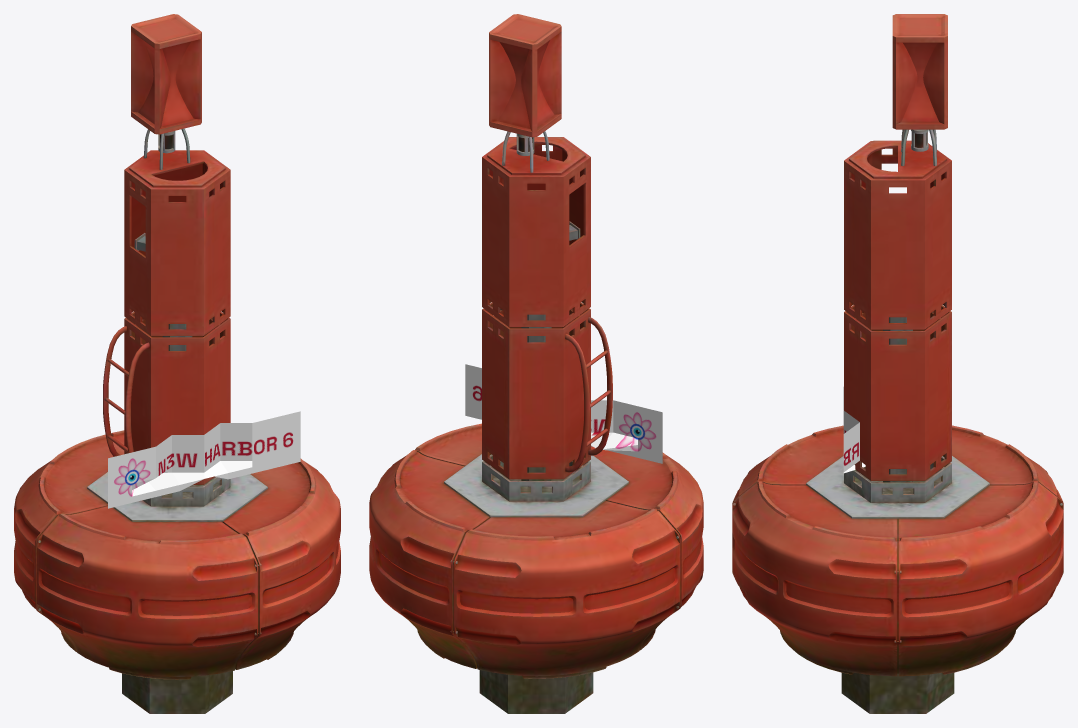
File: nyb_ontown_marker.glb
The picture shows the model from 3 angles, left to right: view 1: azimuth 30°, elevation 25°; view 2: azimuth 150°, elevation 25°; view 3: azimuth 270°, elevation 25°; orthographic projection. The views are drawn at different scales.
Visible parts, largest first — view 1: lateral_sea_marker, stk_lbl_870b43a96d.png; view 2: lateral_sea_marker, stk_lbl_870b43a96d.png; view 3: lateral_sea_marker, stk_lbl_870b43a96d.png.
Boxes of the visible parts, box(x1,y1,x2,y2) form: lateral_sea_marker: box(14, 14, 340, 713); stk_lbl_870b43a96d.png: box(108, 411, 300, 508); lateral_sea_marker: box(369, 14, 703, 713); stk_lbl_870b43a96d.png: box(465, 364, 662, 463); lateral_sea_marker: box(732, 14, 1063, 713); stk_lbl_870b43a96d.png: box(843, 387, 865, 473).
Size of the model in its own units: 3 by 6.84 by 3.
Materials: 2 (2 with a texture image).
